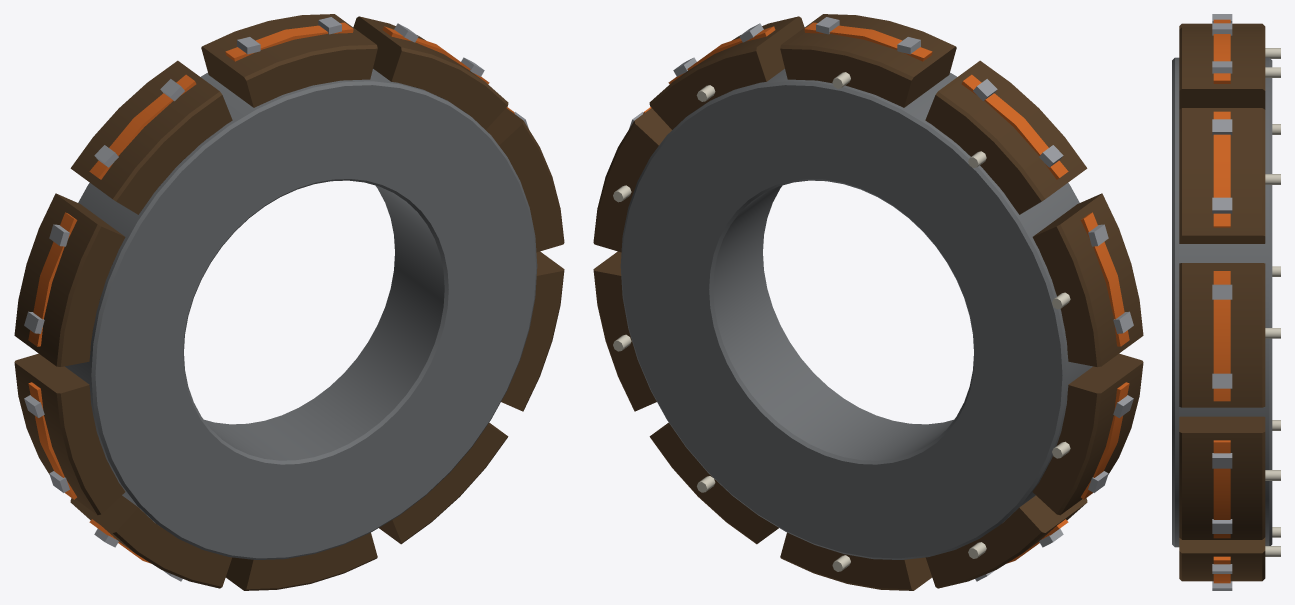
The model's file is u65m_coil_ring.obj.
The picture shows the model from 3 angles, left to right: view 1: azimuth 30°, elevation 25°; view 2: azimuth 150°, elevation 25°; view 3: azimuth 270°, elevation 25°; orthographic projection. The views are drawn at different scales.
Visible parts, largest first — view 1: u65m_coil_ring; view 2: u65m_coil_ring; view 3: u65m_coil_ring.
Part boxes in pixels (x1=…): u65m_coil_ring: x1=14, y1=14, x2=564, y2=590; u65m_coil_ring: x1=593, y1=14, x2=1143, y2=590; u65m_coil_ring: x1=1172, y1=14, x2=1280, y2=590.
Bounding box in the file's own units: 3.99 × 3.96 × 0.76.
